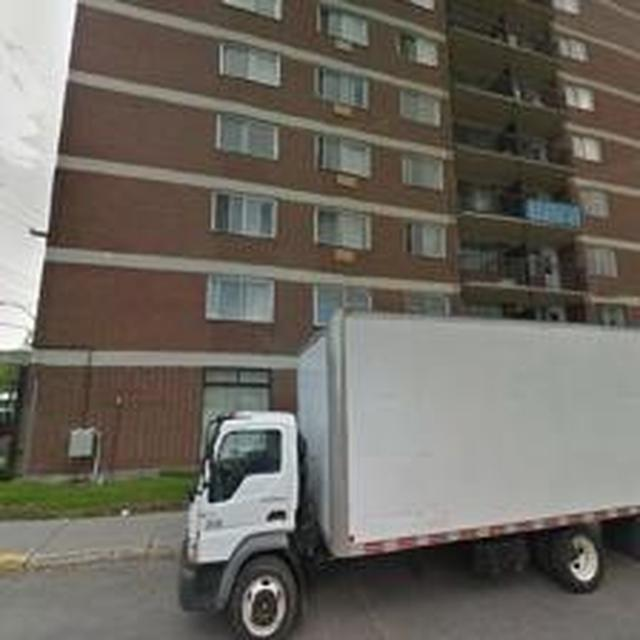building: (24, 0, 640, 476)
